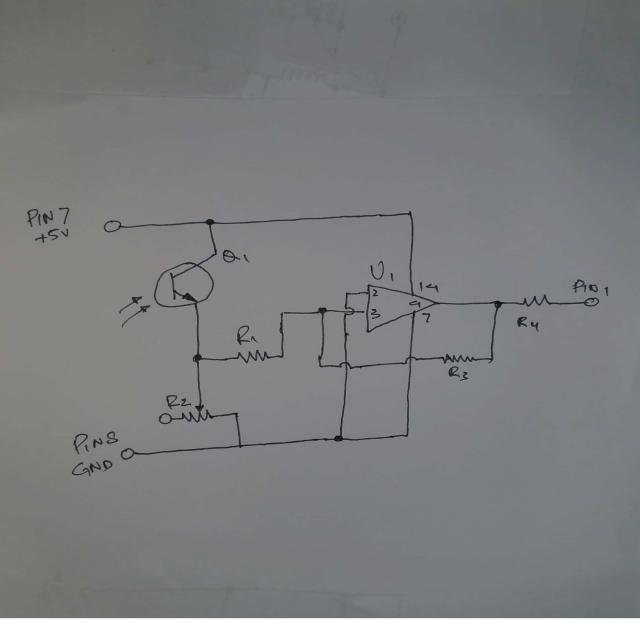crossover: (337, 358, 353, 372), (402, 353, 418, 367), (341, 304, 355, 317)
junction: (277, 308, 289, 318), (204, 217, 215, 227), (210, 248, 221, 258), (404, 208, 415, 218), (192, 353, 203, 363), (331, 433, 342, 443), (400, 430, 410, 440), (315, 361, 325, 371), (317, 306, 327, 316), (493, 299, 503, 309), (229, 410, 240, 419), (485, 355, 496, 364), (234, 441, 244, 450), (342, 290, 352, 299), (277, 352, 286, 361)
resistor: (178, 401, 214, 423), (234, 349, 270, 364), (440, 351, 476, 366), (520, 293, 551, 309)
terminal: (102, 219, 126, 232), (119, 447, 136, 462), (583, 294, 600, 309), (157, 412, 173, 426)
text: (70, 429, 120, 480), (25, 201, 74, 242), (573, 278, 609, 298), (370, 259, 395, 283), (235, 323, 258, 346), (165, 393, 194, 409), (221, 249, 249, 265), (515, 314, 539, 332), (447, 366, 469, 381), (418, 280, 440, 295), (420, 308, 432, 326), (368, 306, 382, 320), (408, 298, 422, 309), (371, 288, 380, 299)
transistor: (114, 259, 215, 328)
